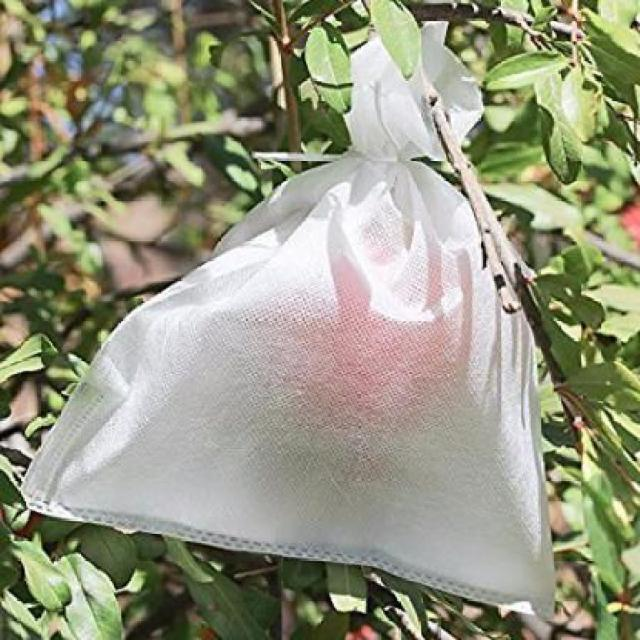plastic bag: (0, 34, 637, 631)
